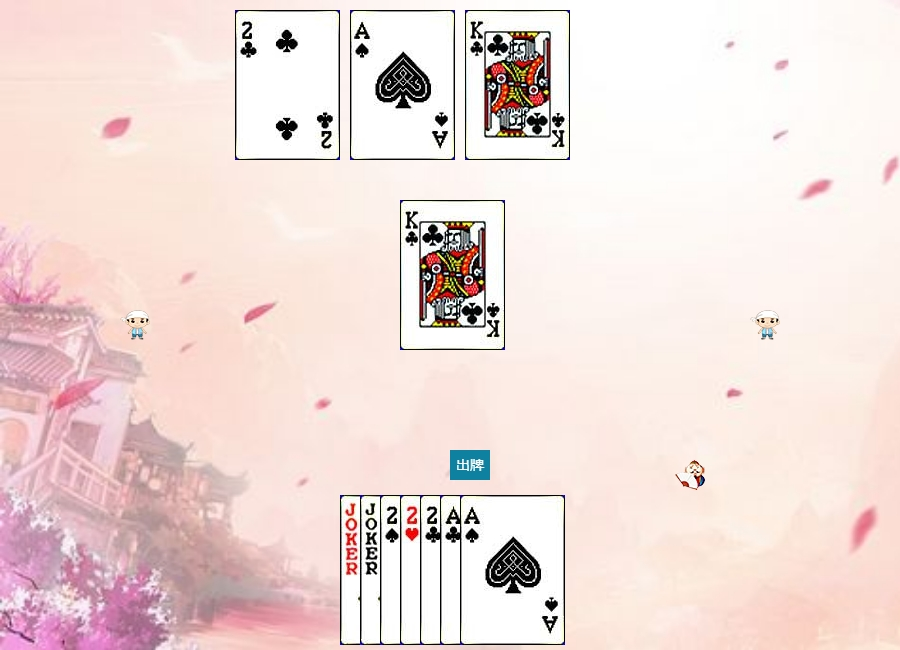13~2: (465, 10, 570, 160), (400, 200, 505, 350)
14~2: (440, 495, 545, 645)
14~4: (350, 10, 455, 160), (460, 495, 565, 645)
15~2: (235, 10, 340, 160), (420, 495, 525, 645)
15~3: (400, 495, 505, 645)
15~4: (380, 495, 485, 645)
17~3: (360, 495, 465, 645)
18~4: (340, 495, 445, 645)
